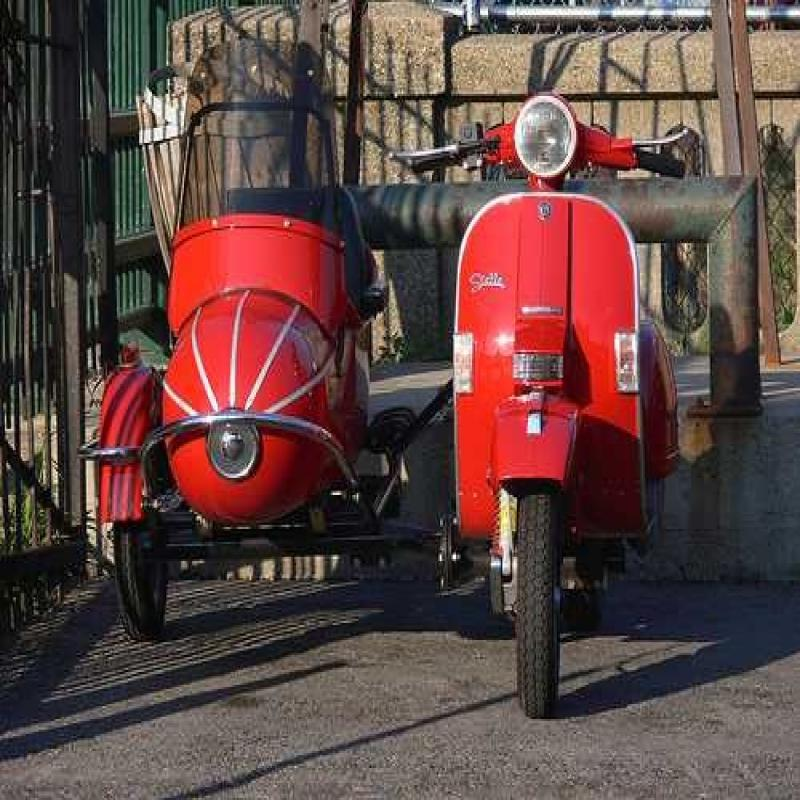bike: (382, 77, 683, 694)
